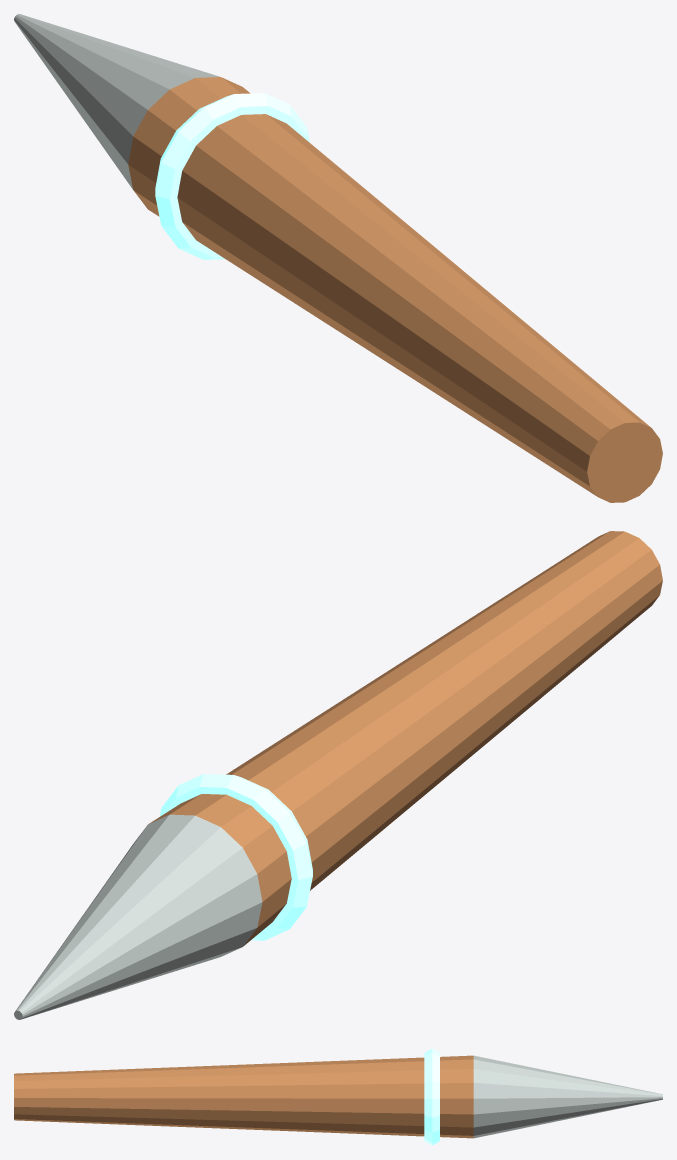
Rendered from GungnirProjectile.glb.
3 views of the same model, one above another, from view 1: azimuth 30°, elevation 25°; view 2: azimuth 150°, elevation 25°; view 3: azimuth 270°, elevation 25° (orthographic). The views are drawn at different scales.
Visible parts, largest first — view 1: GungnirProjectileHull; view 2: GungnirProjectileHull; view 3: GungnirProjectileHull.
Part boxes in pixels (x1,y1,x2,y2): GungnirProjectileHull: (14, 14, 662, 502); GungnirProjectileHull: (14, 531, 662, 1019); GungnirProjectileHull: (14, 1048, 662, 1145).
Bounding box in the file's own units: 0.54 × 0.54 × 3.6.
